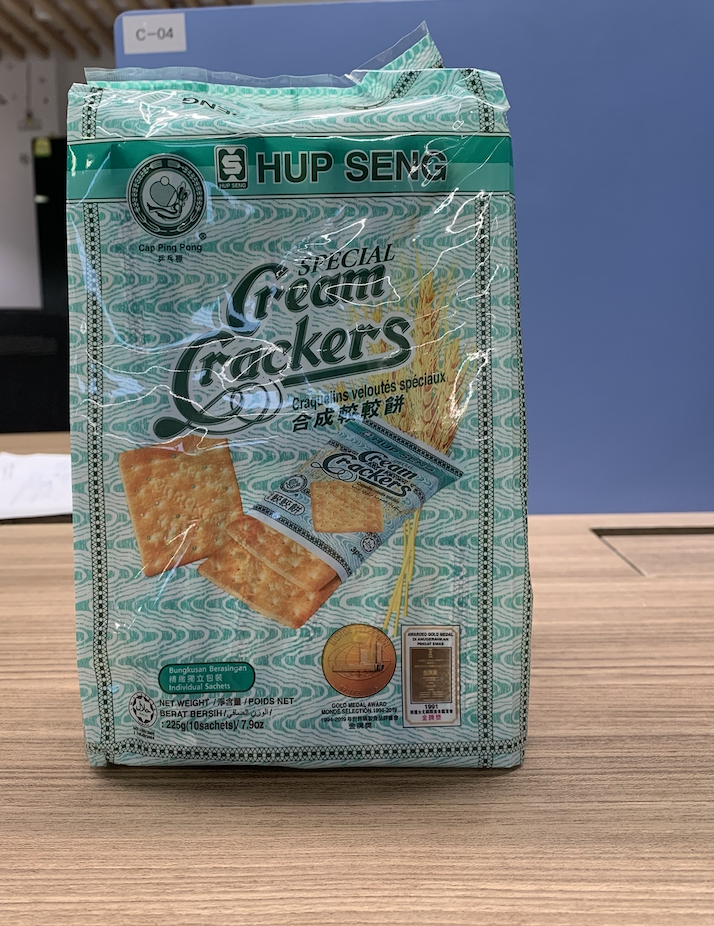halal: (135, 697, 153, 724)
